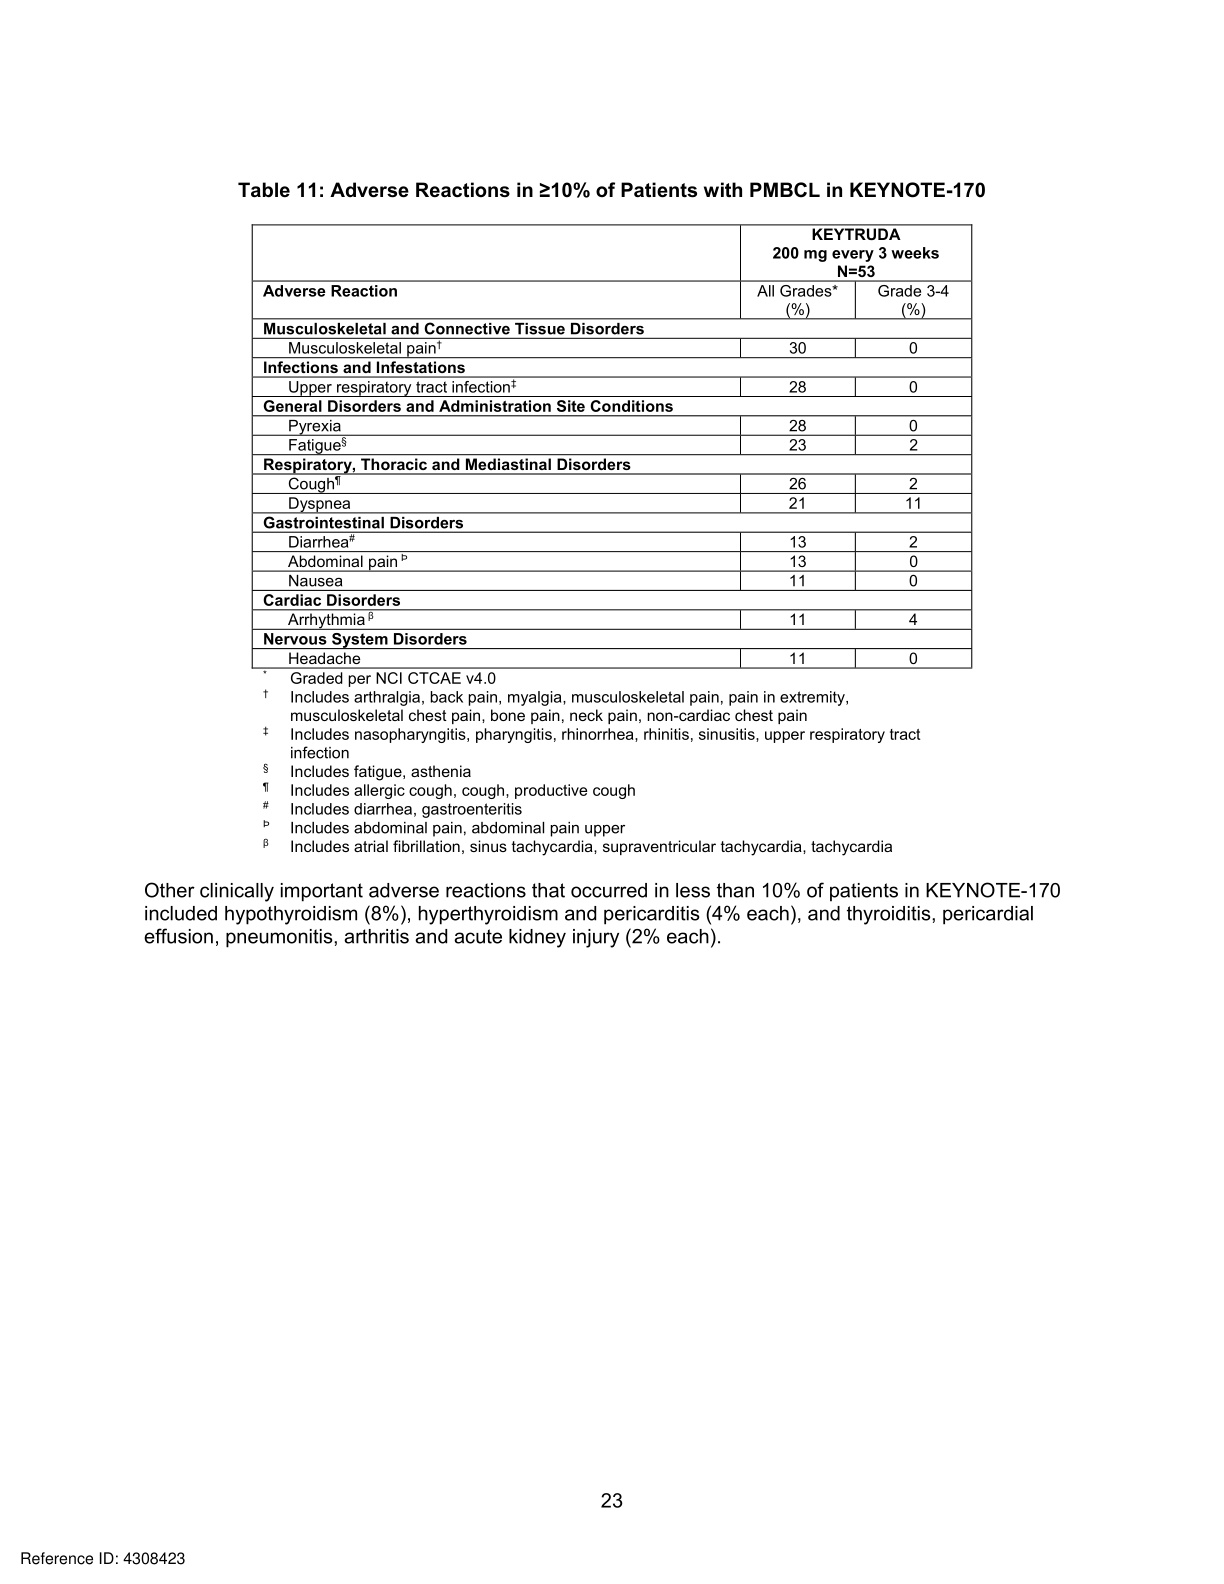merged_cells: (249, 222, 975, 671)
